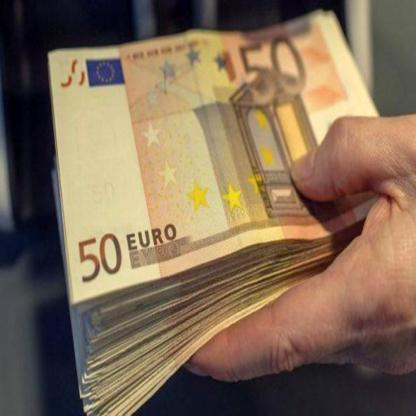billete: (44, 7, 390, 415)
